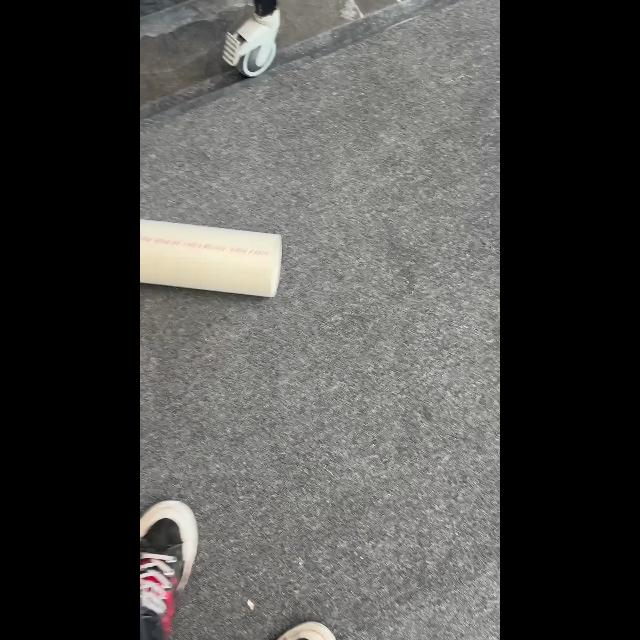CORAL: (140, 218, 282, 298), (222, 7, 280, 78)
